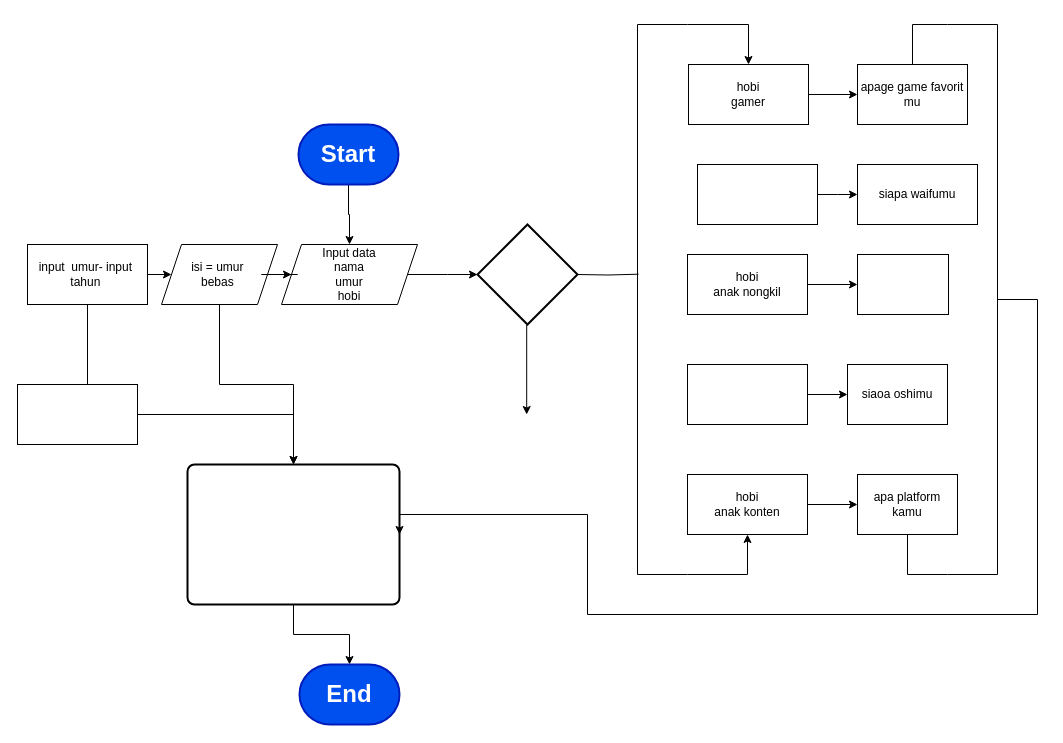
The diagram is 1063 pixels wide and 743 high, and some of its shapes have lost their labels. Here are the shapes that lost their labels. From the top down, the centre of each, then its label:
At point 757,194: "hobi wibu".
At point 527,274: "Pilih salah satu angka".
At point 902,284: "diamana basecampmu".
At point 77,414: "= hasil perkiraan".
At point 747,394: "hobi k-popeers".
At point 293,534: "Hasil: Nama: Umur: Hobi: Detail hobi:".
